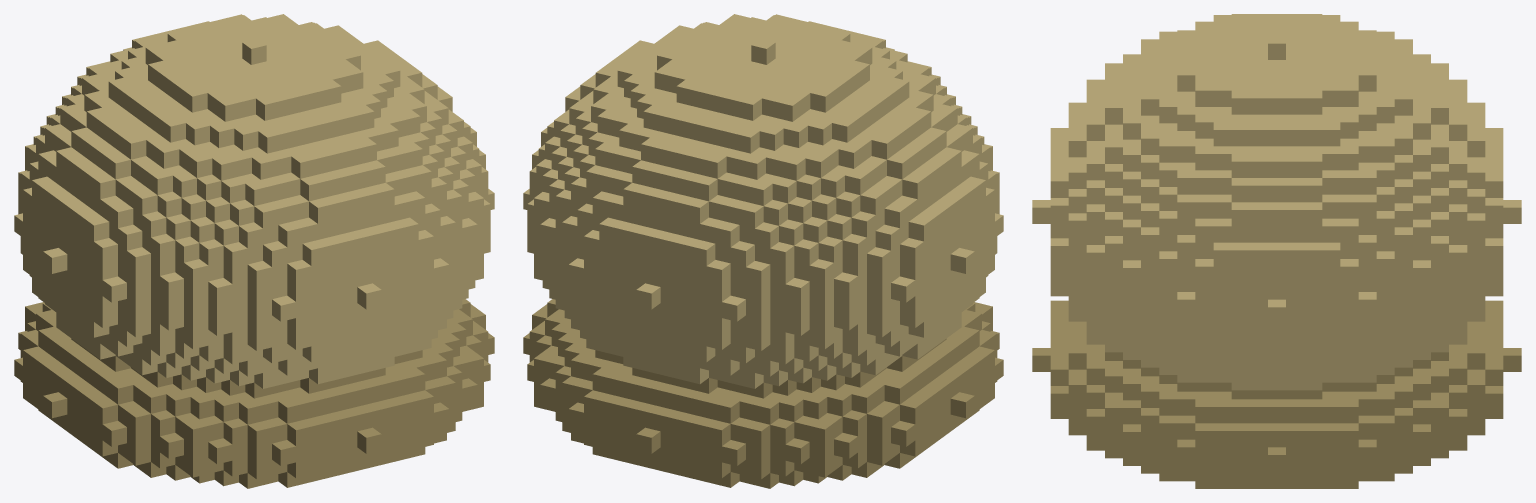
The model's file is drum.glb.
The picture shows the model from 3 angles, left to right: view 1: azimuth 30°, elevation 25°; view 2: azimuth 150°, elevation 25°; view 3: azimuth 270°, elevation 25°; orthographic projection. The views are drawn at different scales.
Bounding box in the file's own units: 27 × 22 × 27.
